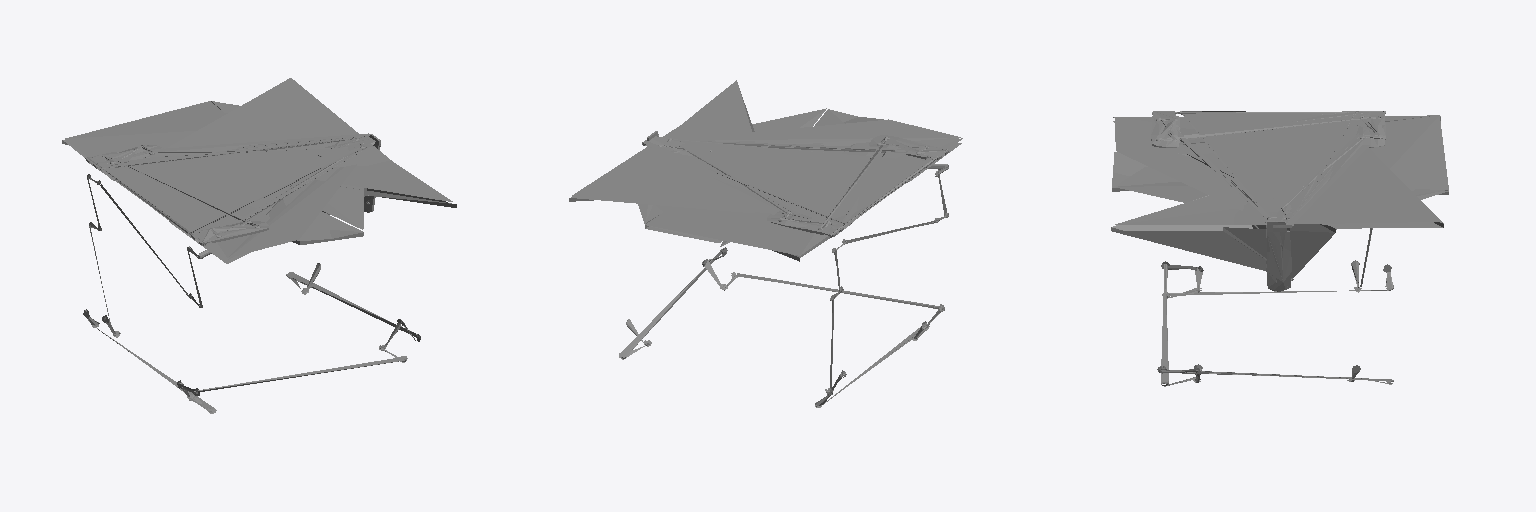
3 views of the same model, side by side, from view 1: azimuth 30°, elevation 25°; view 2: azimuth 150°, elevation 25°; view 3: azimuth 270°, elevation 25° (orthographic).
Parts seen in each view (by area): view 1: Bolts, Box, Krishka; view 2: Bolts, Box, Krishka; view 3: Bolts, Box, Krishka, Karkas, Zamok.
Boxes of the visible parts, box(x1,y1,x2,y2) form: Bolts: box(62, 78, 456, 413); Box: box(87, 137, 380, 244); Krishka: box(85, 136, 380, 245); Bolts: box(569, 80, 962, 407); Box: box(644, 134, 933, 235); Krishka: box(642, 131, 948, 237); Bolts: box(1111, 111, 1448, 386); Box: box(1175, 111, 1383, 291); Krishka: box(1151, 112, 1385, 291); Karkas: box(1182, 111, 1353, 289); Zamok: box(1266, 221, 1291, 291).
Bounding box in the file's own units: 23.16 × 16.92 × 28.34.